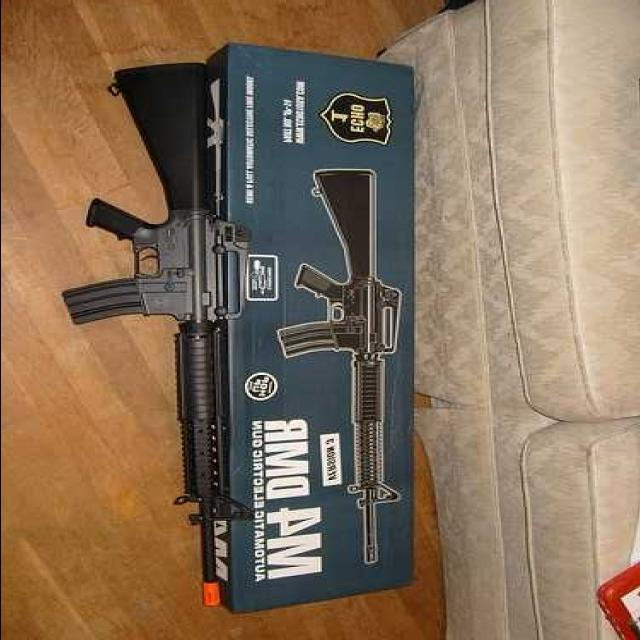heavyweapon: (56, 40, 271, 616)
